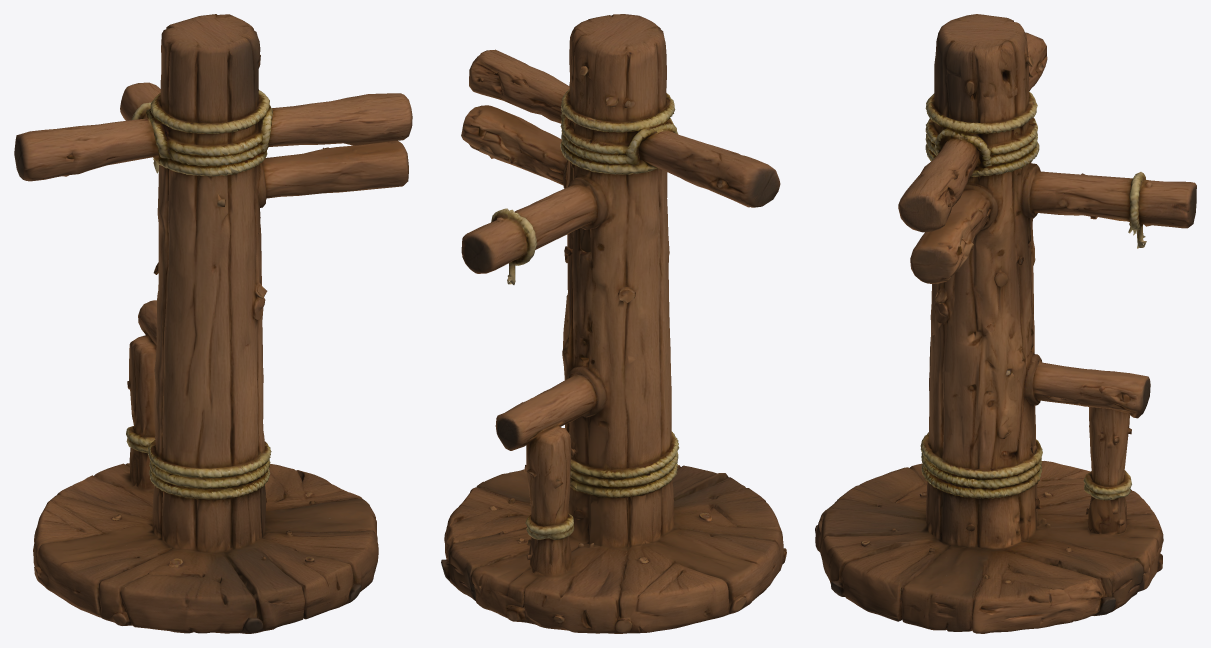
Rendered from training_dummy.glb.
3 renders of one model, left to right at view 1: azimuth 30°, elevation 25°; view 2: azimuth 150°, elevation 25°; view 3: azimuth 270°, elevation 25°, orthographic.
Visible parts, largest first — view 1: tripo_node_ec0ffa60-1b2e-40e0-9d46-4b386029e269; view 2: tripo_node_ec0ffa60-1b2e-40e0-9d46-4b386029e269; view 3: tripo_node_ec0ffa60-1b2e-40e0-9d46-4b386029e269.
Part boxes in pixels (left/top/right/bottom): tripo_node_ec0ffa60-1b2e-40e0-9d46-4b386029e269: left=14, top=14, right=412, bottom=633; tripo_node_ec0ffa60-1b2e-40e0-9d46-4b386029e269: left=441, top=14, right=786, bottom=633; tripo_node_ec0ffa60-1b2e-40e0-9d46-4b386029e269: left=815, top=14, right=1196, bottom=633.
Bounding box in the file's own units: 0.8107 × 1.2 × 0.778.
1 material, 1 textured.
